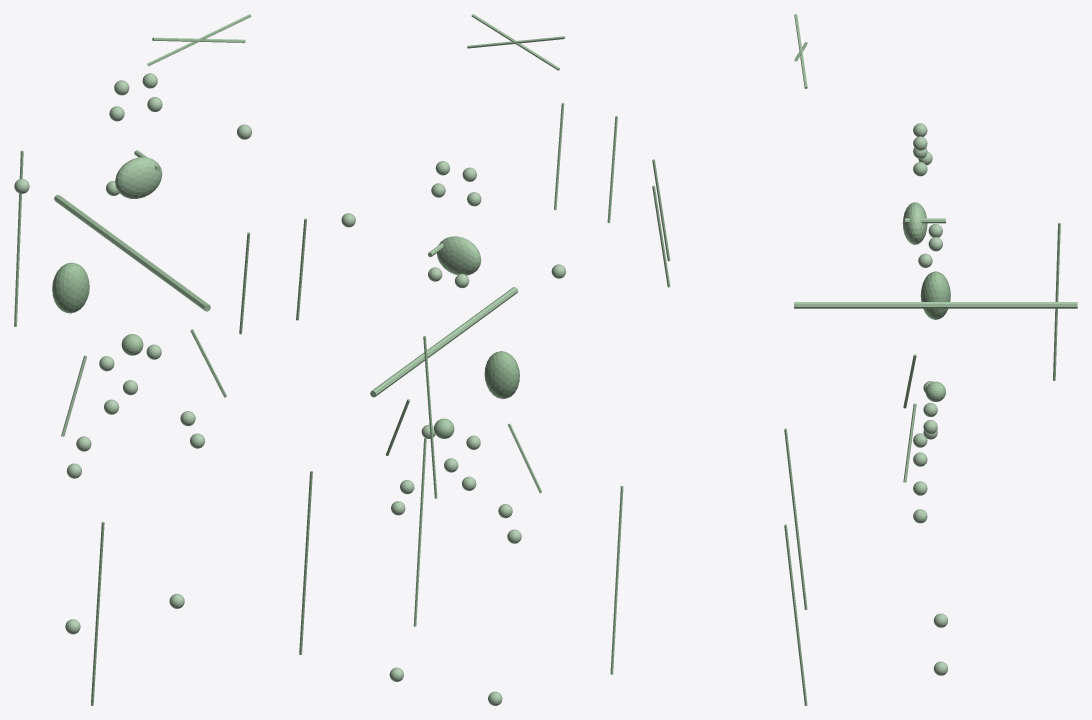
The model's file is lymphatic.glb.
The picture shows the model from 3 angles, left to right: view 1: azimuth 30°, elevation 25°; view 2: azimuth 150°, elevation 25°; view 3: azimuth 270°, elevation 25°; orthographic projection. The views are drawn at different scales.
Parts seen in each view (by area): view 1: world; view 2: world; view 3: world.
Part boxes in pixels (x1,y1,x2,y2): world: (14,14,312,705); world: (341,14,623,705); world: (652,14,1077,705).
Bounding box in the file's own units: 0.996 × 2.66 × 1.65.
